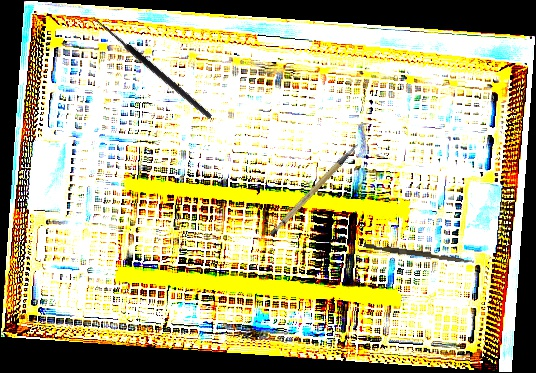Hook Surgical: (84, 13, 214, 126)
Pusher: (362, 243, 476, 264)
Scalpel Handle: (259, 142, 372, 239)
